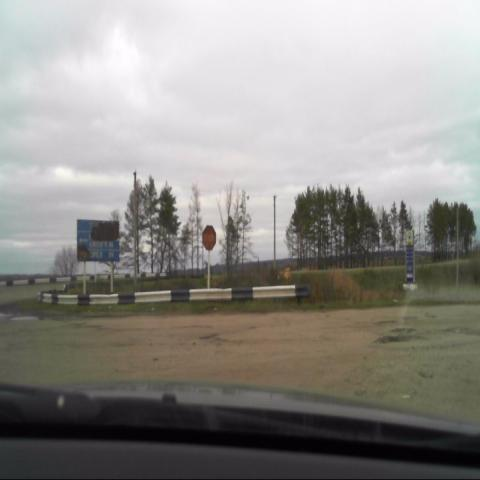2_5: (201, 223, 218, 253)
